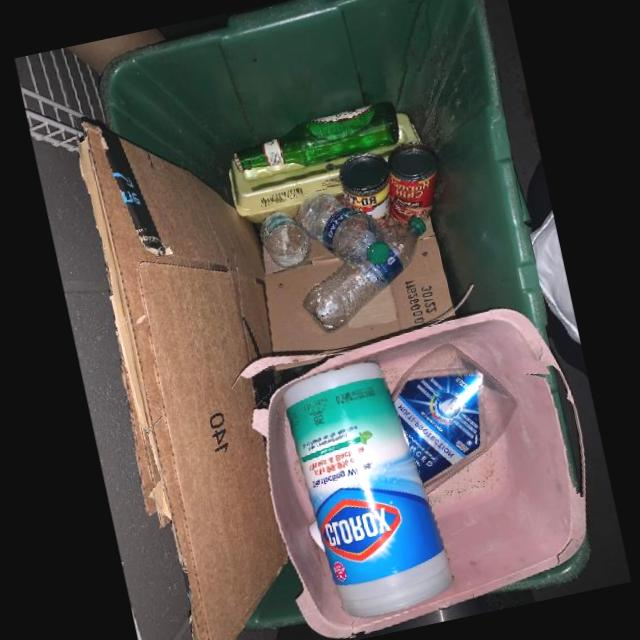carton: (78, 122, 289, 640), (262, 218, 453, 352)
chai_nhua: (284, 362, 455, 618), (391, 343, 519, 494)
chai_nhua_pet: (302, 217, 427, 333), (298, 193, 391, 265), (260, 212, 312, 268)
chai_thuy_tinh: (233, 101, 399, 172)
nhom: (388, 142, 439, 224), (339, 153, 391, 227)
